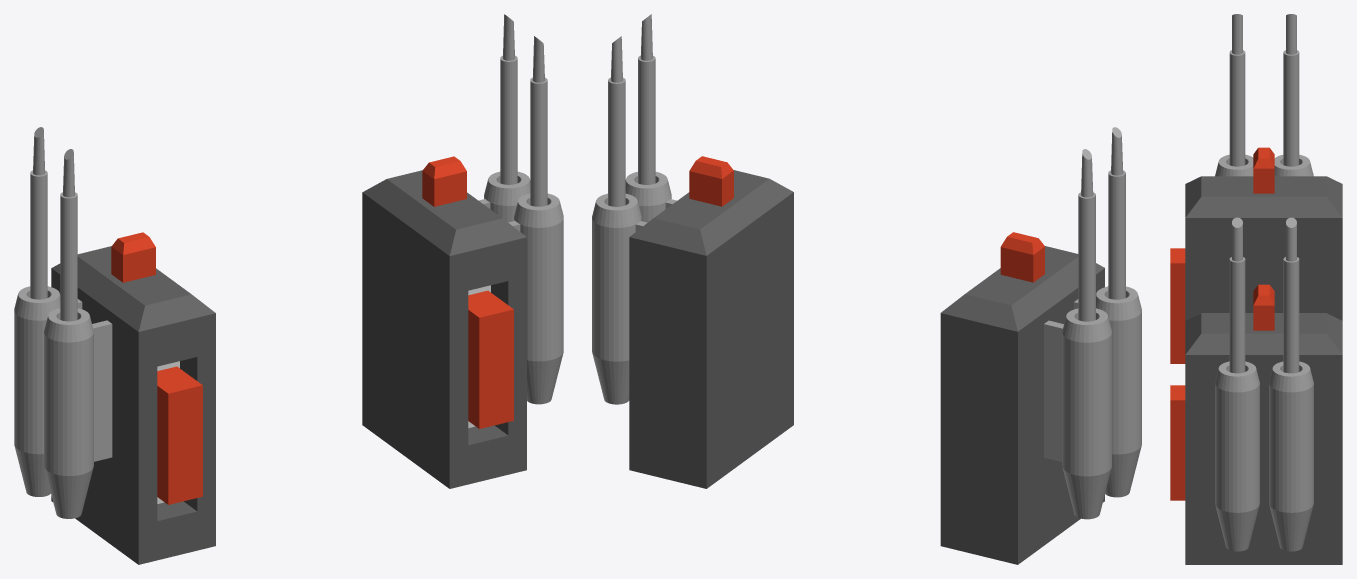
Rendered from GrandmaSpritzer.fbx.
3 views of the same model, side by side, from view 1: azimuth 30°, elevation 25°; view 2: azimuth 150°, elevation 25°; view 3: azimuth 270°, elevation 25° (orthographic). The views are drawn at different scales.
Visible parts, largest first — view 1: GrandmaSpritzer; view 2: GrandmaSpritzer; view 3: GrandmaSpritzer.
Part boxes in pixels (bbox=[...]): GrandmaSpritzer: bbox=[14, 14, 563, 564]; GrandmaSpritzer: bbox=[592, 14, 1141, 564]; GrandmaSpritzer: bbox=[1170, 14, 1342, 564].
Size of the model in its own units: 1327 by 997 by 428.
